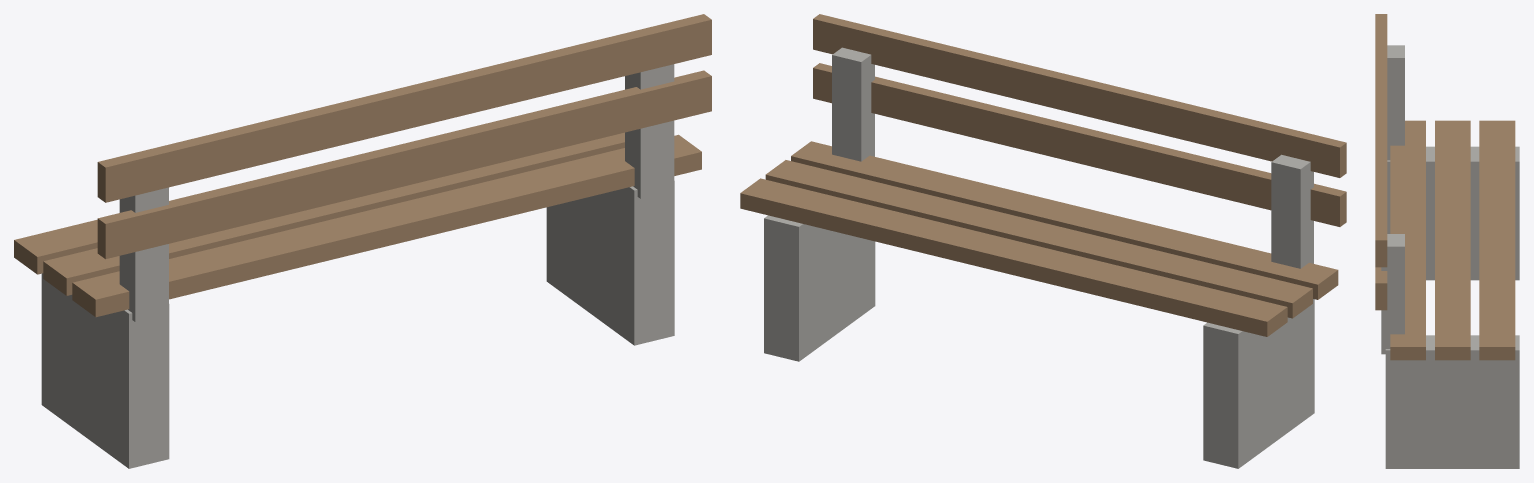
The model's file is bench.glb.
3 views of the same model, side by side, from view 1: azimuth 30°, elevation 25°; view 2: azimuth 150°, elevation 25°; view 3: azimuth 270°, elevation 25° (orthographic). The views are drawn at different scales.
Parts seen in each view (by area): view 1: Bench; view 2: Bench; view 3: Bench.
Boxes of the visible parts, <box> form: Bench: <box>14,14,711,468</box>; Bench: <box>740,14,1346,468</box>; Bench: <box>1375,14,1519,468</box>.
Bounding box in the file's own units: 1.8 × 0.89 × 0.485.
